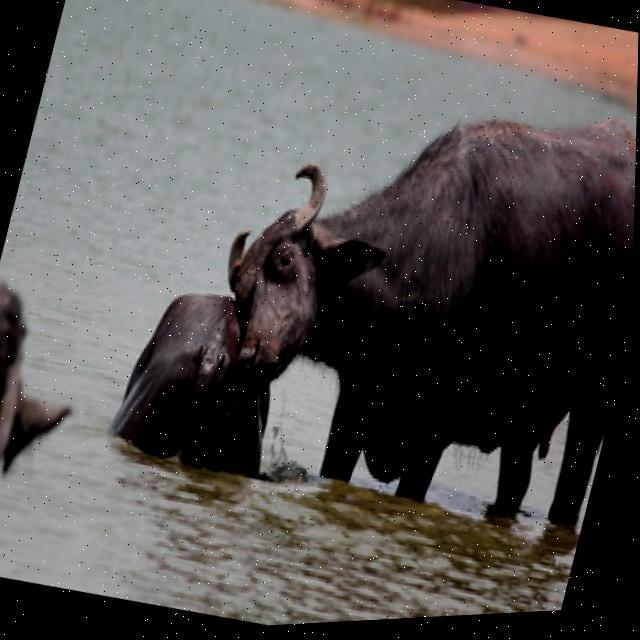Buffalo: (181, 50, 638, 539)
